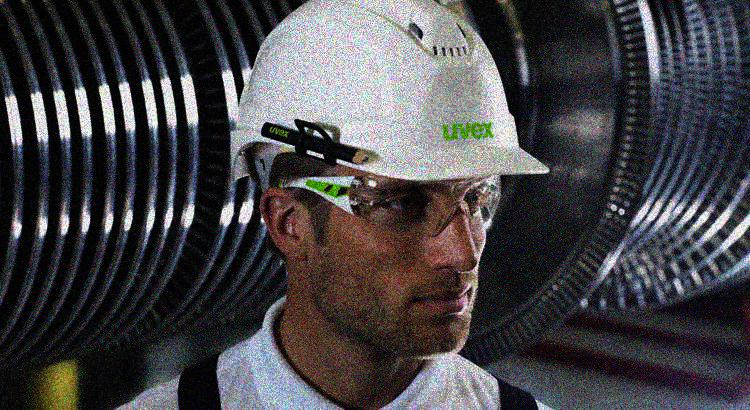helmet: (234, 1, 548, 360)
